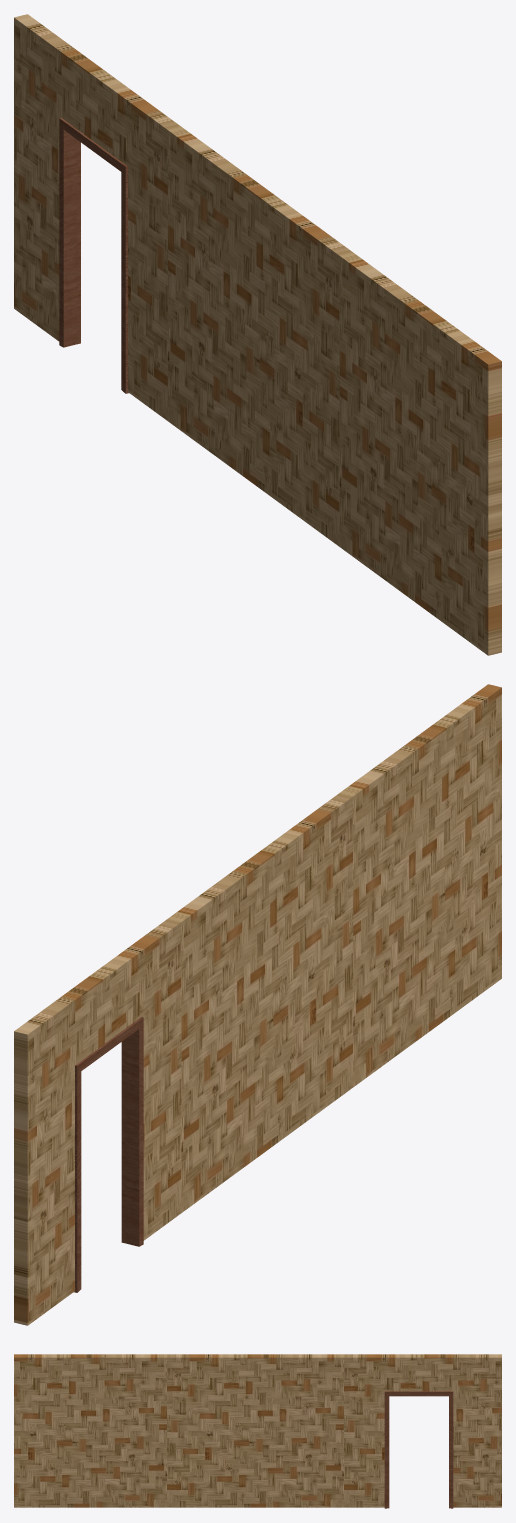
The model's file is R5_Kiri.fbx.
The picture shows the model from 3 angles, top to bottom: view 1: azimuth 30°, elevation 25°; view 2: azimuth 150°, elevation 25°; view 3: azimuth 270°, elevation 25°; orthographic projection. The views are drawn at different scales.
Parts seen in each view (by area): view 1: T_Depan_R4.007; view 2: T_Depan_R4.007; view 3: T_Depan_R4.007.
Part boxes in pixels (x1,y1,x2,y2): T_Depan_R4.007: [14, 14, 501, 655]; T_Depan_R4.007: [14, 684, 501, 1325]; T_Depan_R4.007: [14, 1354, 501, 1508].
Size of the model in its own units: 0.3864 by 6.13 by 18.
Materials: 2 (2 with a texture image).
